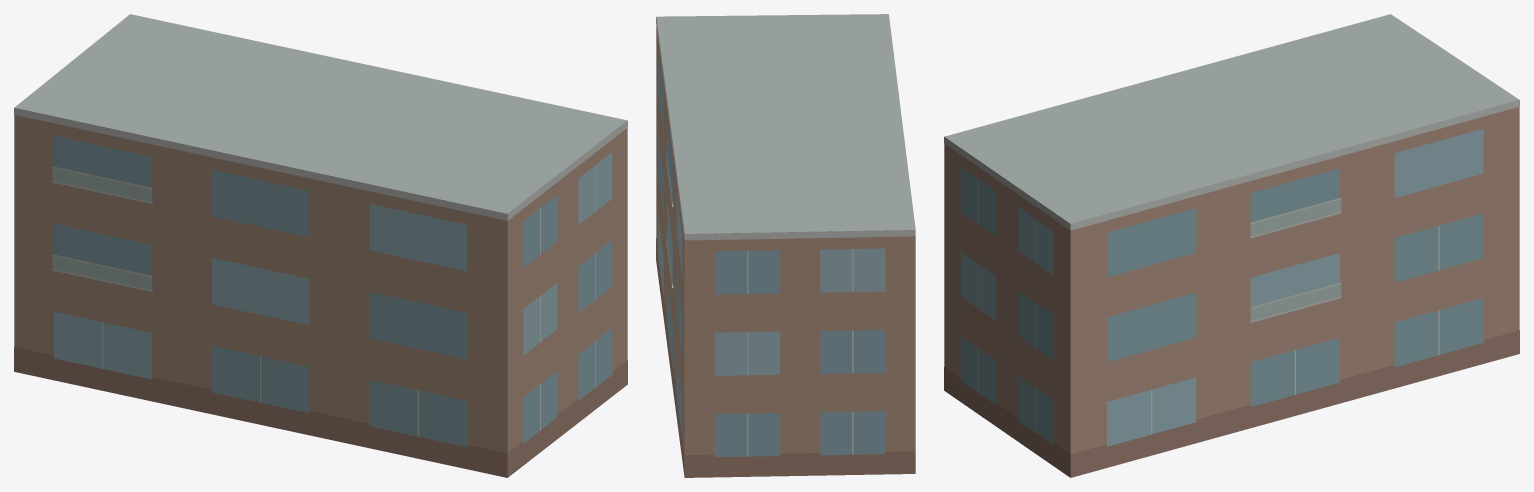
File: survey-upis-32793386.glb
3 renders of one model, left to right at view 1: azimuth 30°, elevation 25°; view 2: azimuth 150°, elevation 25°; view 3: azimuth 270°, elevation 25°, orthographic. The views are drawn at different scales.
Visible parts, largest first — view 1: survey-upis-32793386.tmp; view 2: survey-upis-32793386.tmp; view 3: survey-upis-32793386.tmp.
Boxes of the visible parts, left/top/right/bottom form: survey-upis-32793386.tmp: left=14, top=14, right=627, bottom=477; survey-upis-32793386.tmp: left=656, top=14, right=915, bottom=477; survey-upis-32793386.tmp: left=944, top=14, right=1519, bottom=477.
Size of the model in its own units: 16.23 by 9.15 by 18.8.
